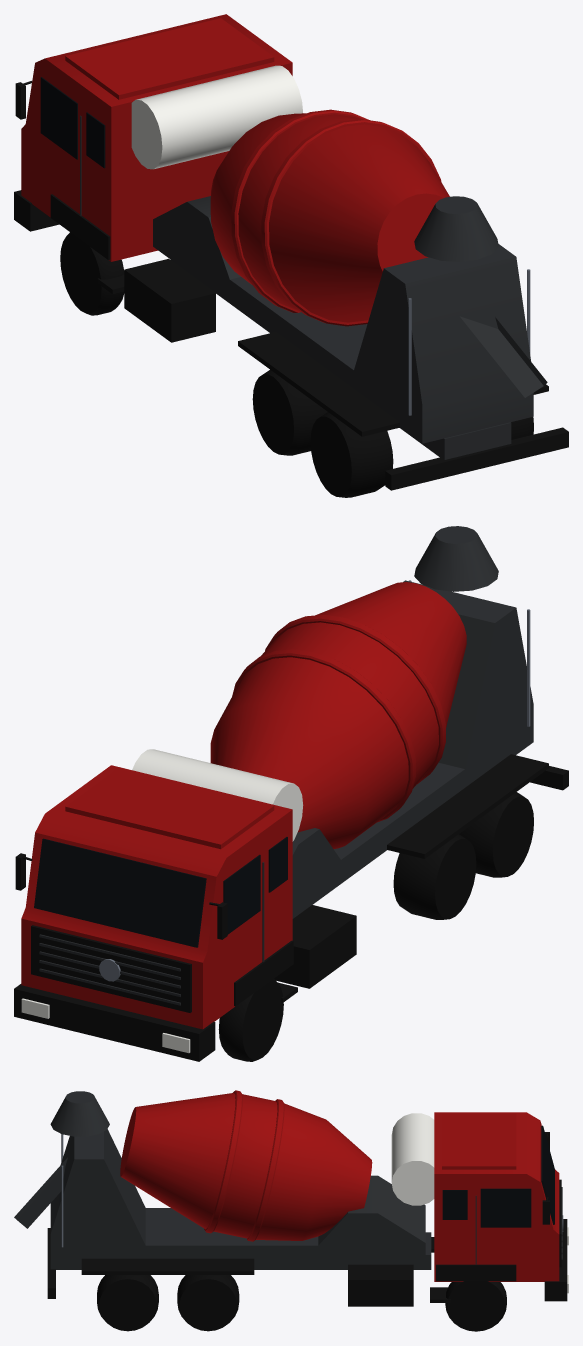
The model's file is plant.truck.concrete_mixer.glb.
3 views of the same model, one above another, from view 1: azimuth 30°, elevation 25°; view 2: azimuth 150°, elevation 25°; view 3: azimuth 270°, elevation 25° (orthographic). The views are drawn at different scales.
Visible parts, largest first — view 1: body__steel_dark, drum__car_red, chassis__car_red, chassis__plastic_black, wheels__rubber, body__paint_white, chassis__glass_dark, chassis__steel_dark, body__steel_painted; view 2: drum__car_red, chassis__car_red, chassis__plastic_black, body__steel_dark, chassis__glass_dark, wheels__rubber, body__paint_white, chassis__steel_dark, chassis__paint_white; view 3: drum__car_red, body__steel_dark, chassis__car_red, chassis__plastic_black, wheels__rubber, body__paint_white, chassis__glass_dark, chassis__steel_dark, body__steel_painted.
Part boxes in pixels (x1,y1,x2,y2): body__steel_dark: (153,196,547,443); drum__car_red: (210,109,449,326); chassis__car_red: (21,14,292,261); chassis__plastic_black: (14,81,568,490); wheels__rubber: (60,232,533,497); body__paint_white: (131,65,302,169); chassis__glass_dark: (40,77,105,168); chassis__steel_dark: (80,115,511,459); body__steel_painted: (408,269,530,415); drum__car_red: (210,582,466,848); chassis__car_red: (21,765,292,1029); chassis__plastic_black: (14,754,568,1061); body__steel_dark: (292,526,533,918); chassis__glass_dark: (34,837,287,947); wheels__rubber: (218,792,533,1061); body__paint_white: (132,749,303,841); chassis__steel_dark: (39,850,386,1005); chassis__paint_white: (21,998,190,1053); drum__car_red: (120,1090,372,1241); body__steel_dark: (14,1091,425,1261); chassis__car_red: (434,1112,559,1281); chassis__plastic_black: (47,1132,567,1306); wheels__rubber: (97,1275,506,1331); body__paint_white: (391,1113,434,1205); chassis__glass_dark: (442,1125,554,1227); chassis__steel_dark: (50,1187,562,1269); body__steel_painted: (61,1134,63,1247).
Bounding box in the file's own units: 2.79 × 3.8 × 9.32.
